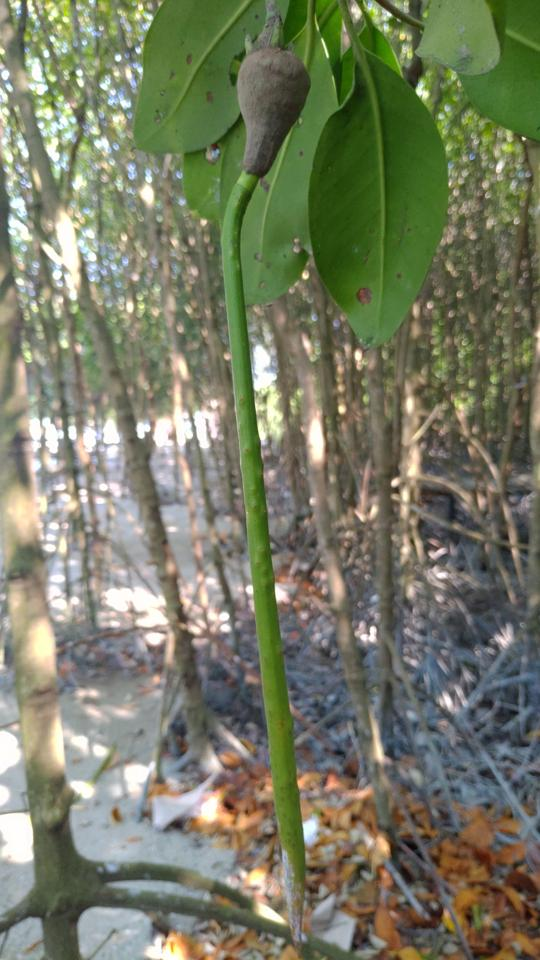setengah matang: (215, 25, 336, 953)
